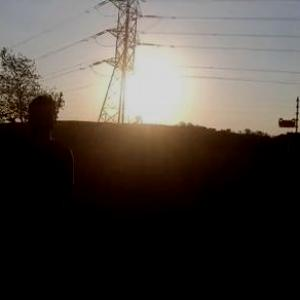follow: (0, 90, 81, 299)
